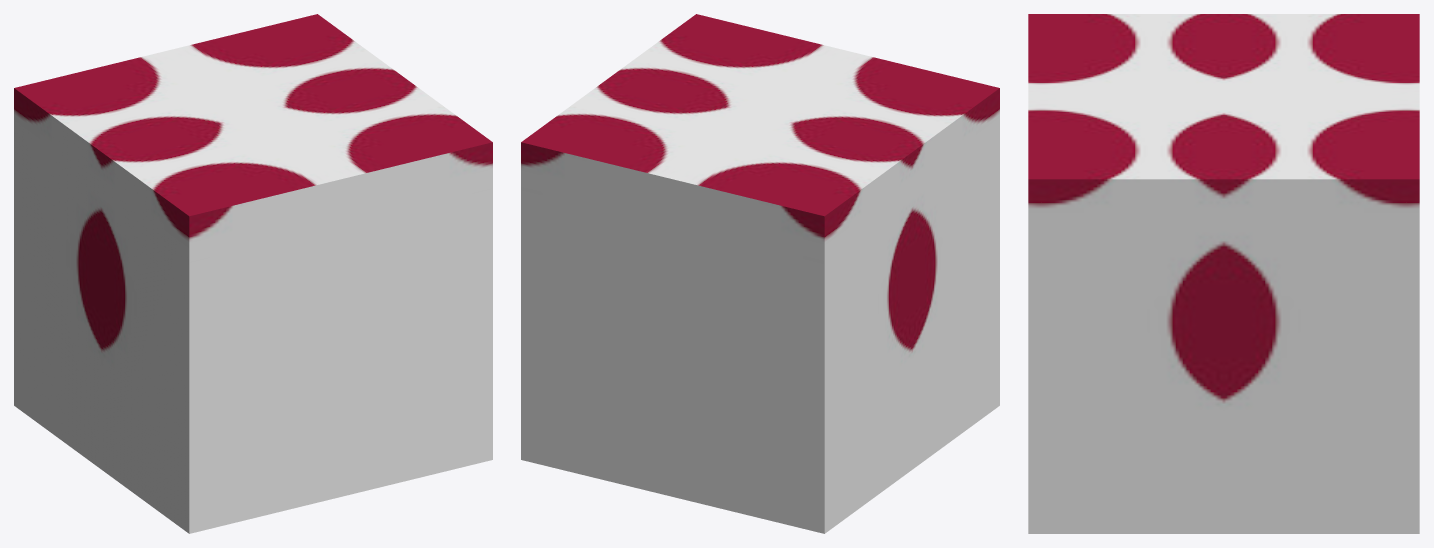
File: cardboard_box.dae
3 renders of one model, left to right at view 1: azimuth 30°, elevation 25°; view 2: azimuth 150°, elevation 25°; view 3: azimuth 270°, elevation 25°, orthographic. The views are drawn at different scales.
Visible parts, largest first — view 1: Conveyor_Box; view 2: Conveyor_Box; view 3: Conveyor_Box.
Part boxes in pixels (bbox=[...]): Conveyor_Box: bbox=[14, 14, 492, 533]; Conveyor_Box: bbox=[521, 14, 999, 533]; Conveyor_Box: bbox=[1028, 14, 1419, 533].
Size of the model in its own units: 397 by 397 by 397.
Materials: 1 (1 with a texture image).
